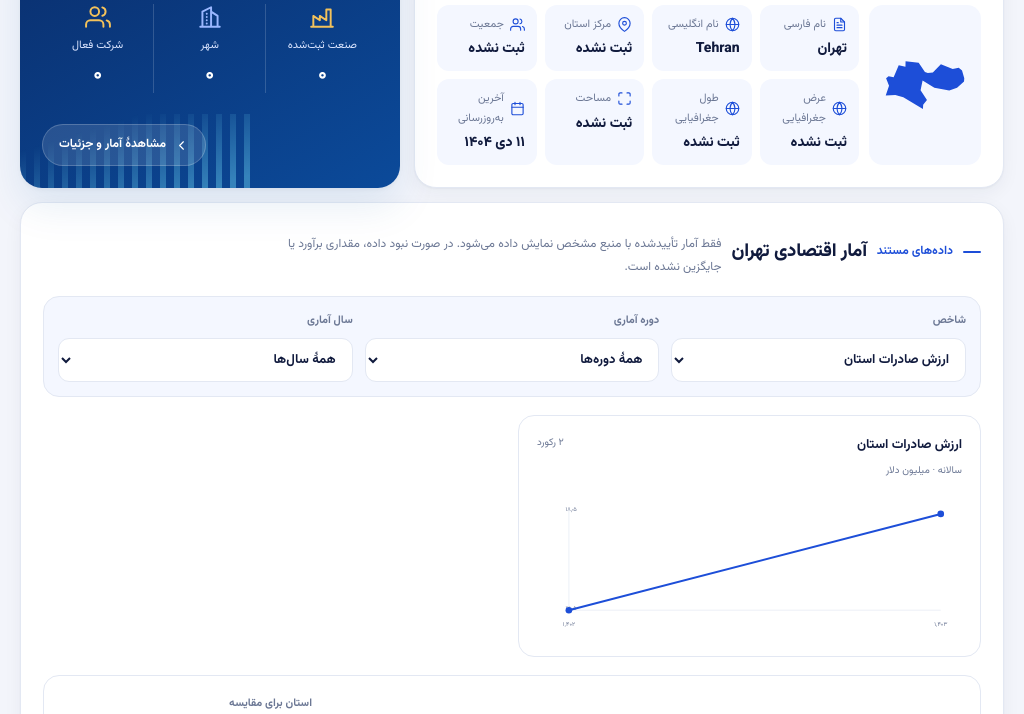
it: province pages › charts documented statistics and only compares matching units and periods
(page scrolled)
Select "۱٬۴۰۳" in the dropdown labelled "سال آماری" at (205, 360), box top-left (58, 338), bottom-right (353, 382)
(page scrolled)
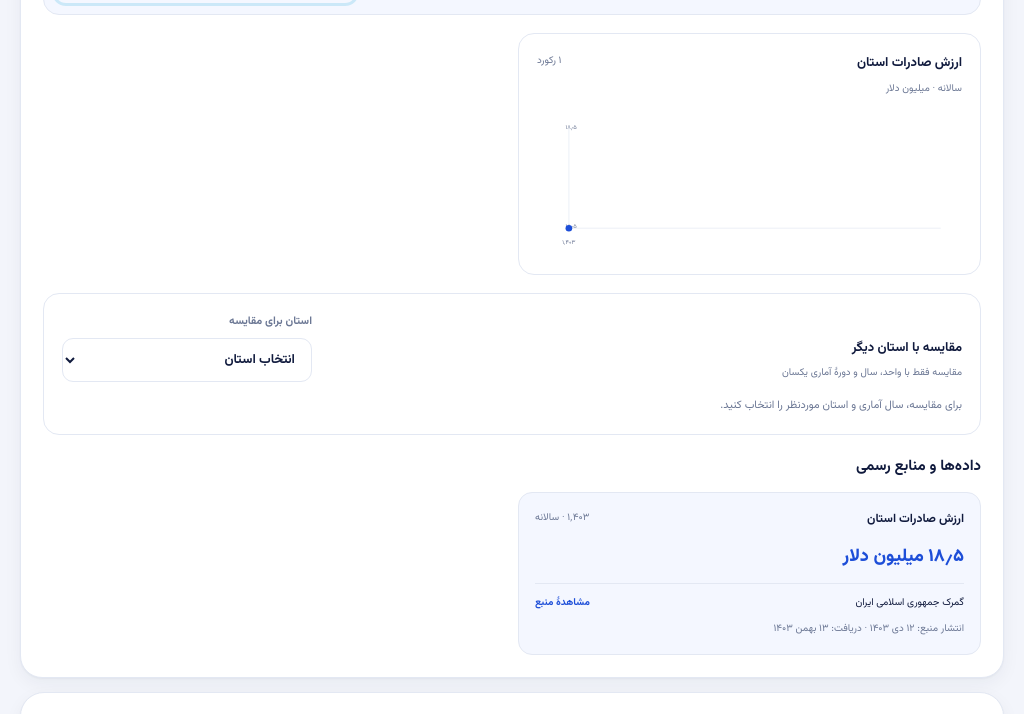
Select "اصفهان" in the dropdown labelled "استان برای مقایسه" at (187, 360), box top-left (62, 338), bottom-right (312, 382)
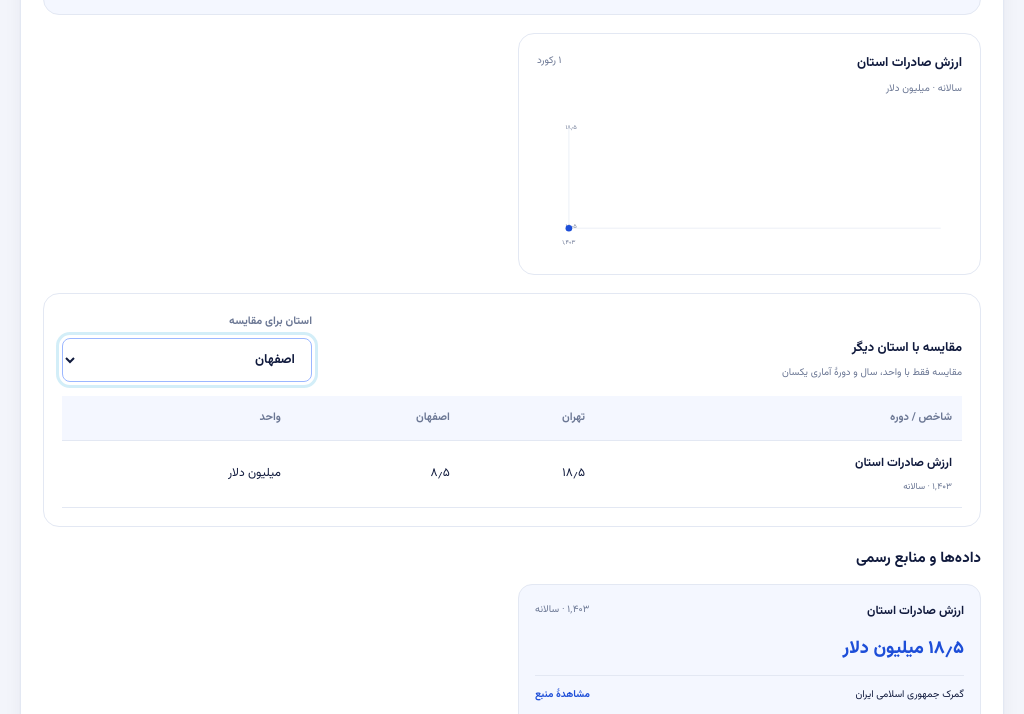
Expected: the picture named "نمودار روند تغییرات شاخص‌های ثبت‌شده" is shown, top-left (537, 110), bottom-right (962, 256)
Now the text "۸٫۵" is shown, box top-left (291, 441), bottom-right (460, 508)
